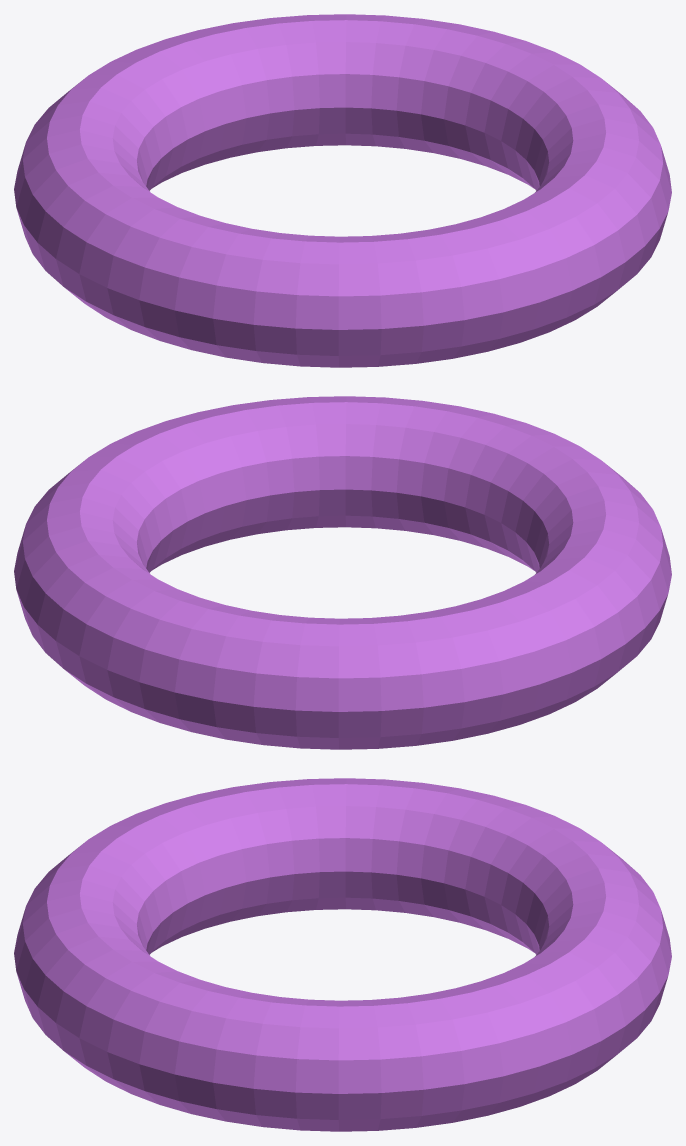
The model's file is Prisma Pentagonal.003.glb.
The picture shows the model from 3 angles, top to bottom: view 1: azimuth 30°, elevation 25°; view 2: azimuth 150°, elevation 25°; view 3: azimuth 270°, elevation 25°; orthographic projection.
Parts seen in each view (by area): view 1: Prisma Pentagonal.003; view 2: Prisma Pentagonal.003; view 3: Prisma Pentagonal.003.
Part boxes in pixels (x1,y1,x2,y2): Prisma Pentagonal.003: (14, 14, 671, 367); Prisma Pentagonal.003: (14, 396, 671, 749); Prisma Pentagonal.003: (14, 778, 671, 1131).
Bounding box in the file's own units: 2.5 × 0.5 × 2.5.
